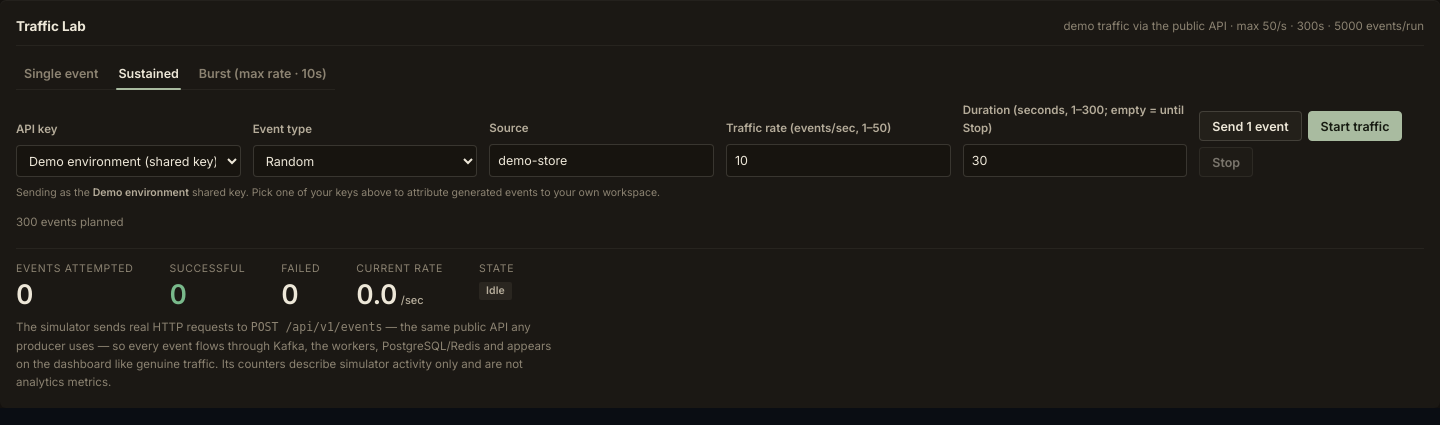
EventSimulator UI › still sends when crypto.randomUUID is unavailable (insecure http context)
The image size is (1440, 425).
Expected: the dropdown labelled "API key" is shown, [16,145,241,177]
Click the button "Send 1 event": (1250, 126) [1199,111,1302,141]
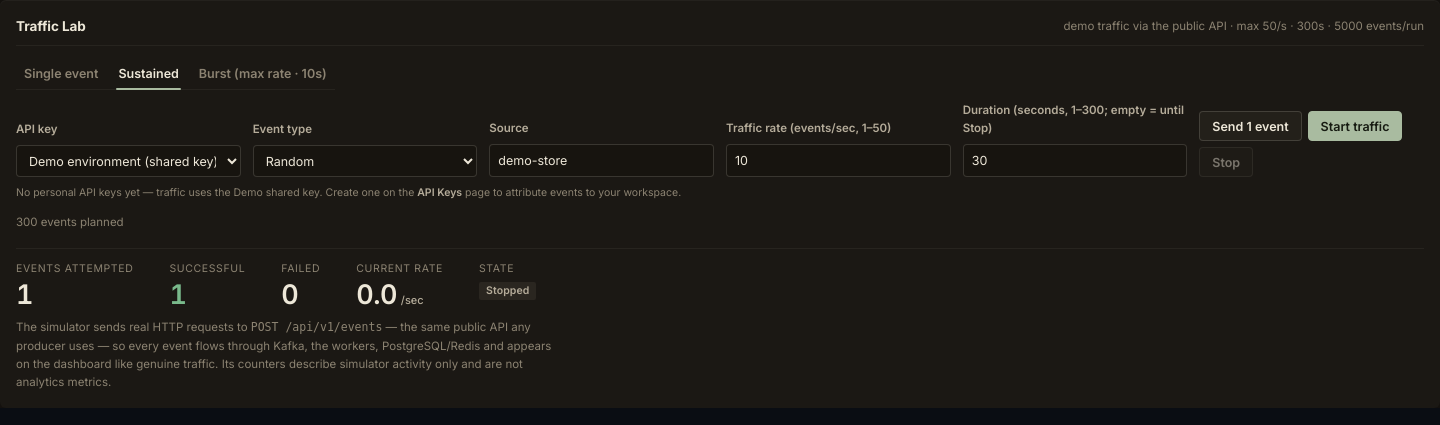
Expected: the text "1" below "Successful" is shown, [169,278,186,311]
